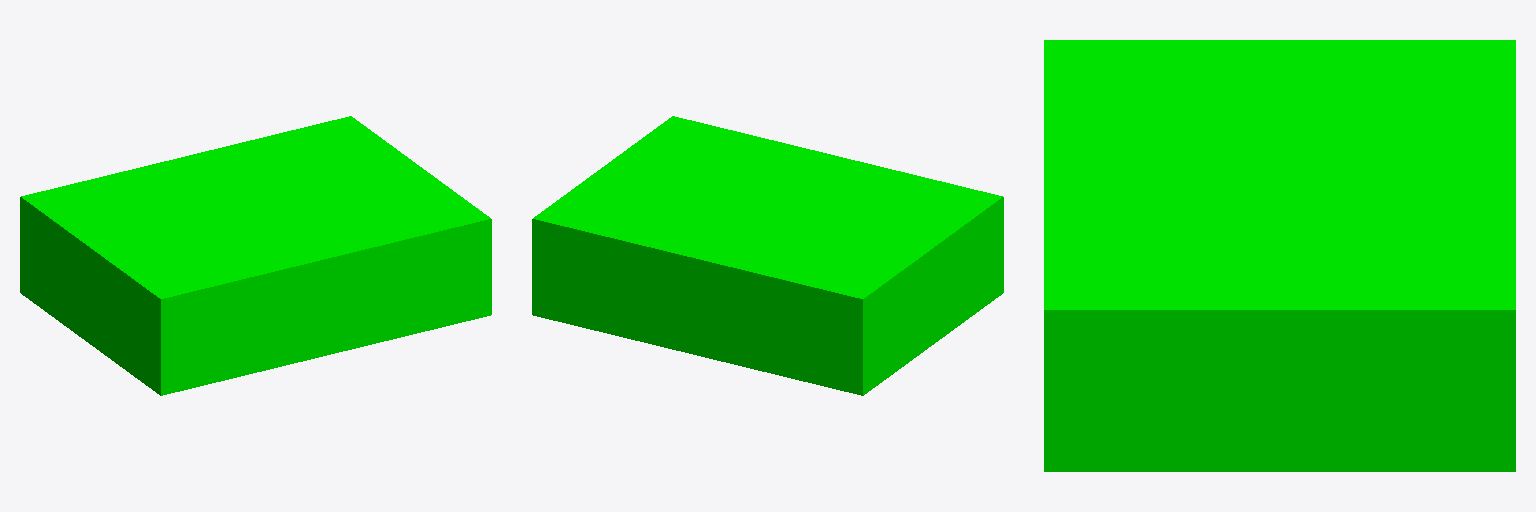
robot.urdf — medium_box:
<?xml version="1.0"?>
<robot name="medium_box">
    <link name="base_link">
        <visual name="visual">
            <geometry name="geometry">
                <box size="0.340 0.250 0.095"/>
            </geometry>
            <material name="green">
                <color rgba="0.0 1.0 0.0 1.0"/>
            </material>
        </visual>
    </link>
</robot>

--- Facts derived from the render (not from the file) ---
The picture shows the robot from 3 angles, left to right: view 1: azimuth 30°, elevation 25°; view 2: azimuth 150°, elevation 25°; view 3: azimuth 270°, elevation 25°; orthographic projection.
Model medium_box with 1 links and 0 joints (none), rooted at base_link, posed all joints at 0.
Visible links, largest first — view 1: base_link; view 2: base_link; view 3: base_link.
Boxes of the visible links, left/top/right/bottom form: base_link: left=20, top=116, right=491, bottom=395; base_link: left=532, top=116, right=1003, bottom=395; base_link: left=1044, top=40, right=1515, bottom=471.
Size in the robot's own frame: 0.34 by 0.25 by 0.095 metres.
Geometry: primitives only (box / cylinder / sphere), no mesh files.